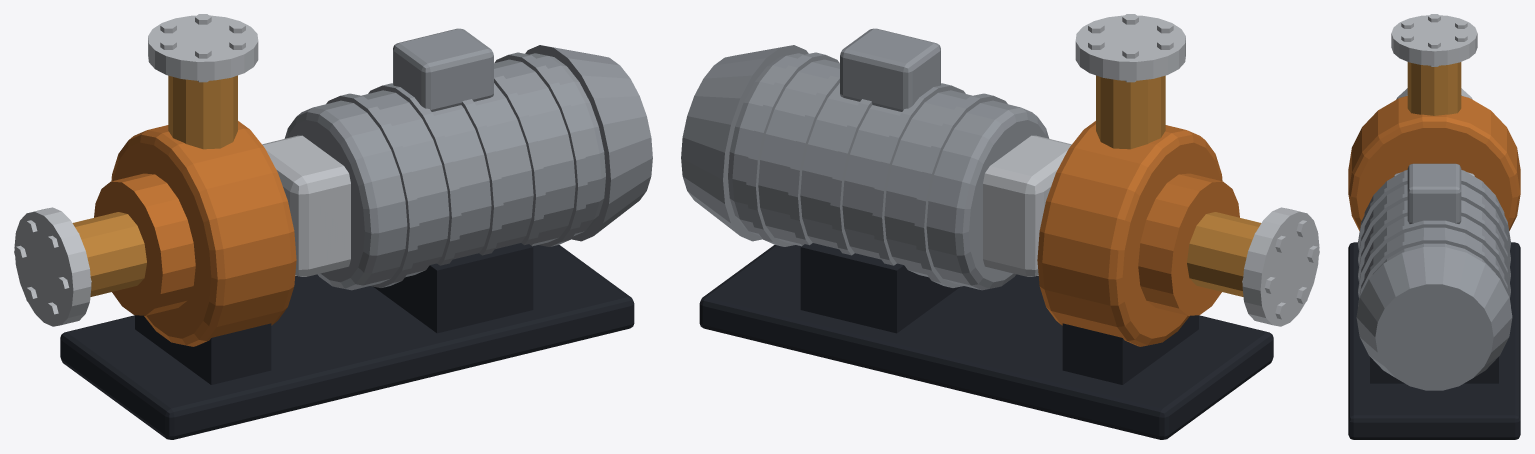
The model's file is dhw-pump.glb.
3 renders of one model, left to right at view 1: azimuth 30°, elevation 25°; view 2: azimuth 150°, elevation 25°; view 3: azimuth 270°, elevation 25°, orthographic. The views are drawn at different scales.
Parts seen in each view (by area): view 1: pump_pump_motor, pump_chiller_dark, pump_pump_volute, pump_chiller_metal, pump_tank_pipe; view 2: pump_pump_motor, pump_chiller_dark, pump_pump_volute, pump_chiller_metal, pump_tank_pipe; view 3: pump_pump_motor, pump_chiller_dark, pump_pump_volute, pump_chiller_metal, pump_tank_pipe.
Part boxes in pixels (<box>): pump_pump_motor: <box>284,28,652,290</box>; pump_chiller_dark: <box>60,243,634,439</box>; pump_pump_volute: <box>94,121,296,346</box>; pump_chiller_metal: <box>14,14,350,326</box>; pump_tank_pipe: <box>72,75,237,296</box>; pump_pump_motor: <box>681,28,1049,290</box>; pump_chiller_dark: <box>699,243,1273,439</box>; pump_pump_volute: <box>1037,121,1239,346</box>; pump_chiller_metal: <box>983,14,1319,326</box>; pump_tank_pipe: <box>1096,75,1261,296</box>; pump_pump_motor: <box>1356,163,1512,390</box>; pump_chiller_dark: <box>1348,242,1520,439</box>; pump_pump_volute: <box>1348,96,1520,230</box>; pump_chiller_metal: <box>1391,14,1477,176</box>; pump_tank_pipe: <box>1407,62,1461,115</box>.
Bounding box in the file's own units: 0.9575 × 0.5525 × 0.32.
